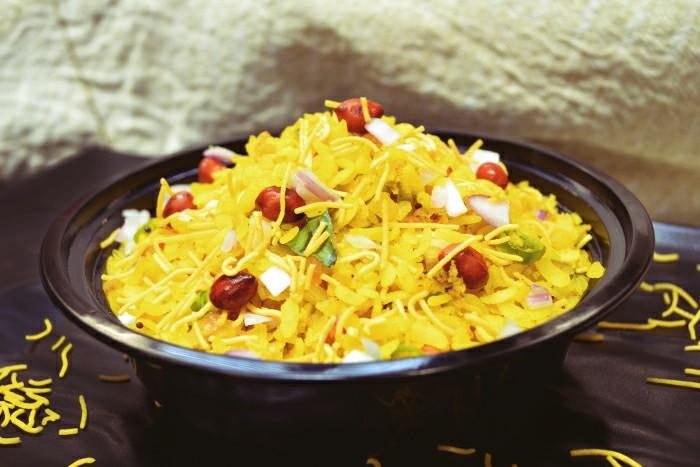Poha: (95, 92, 604, 366)
